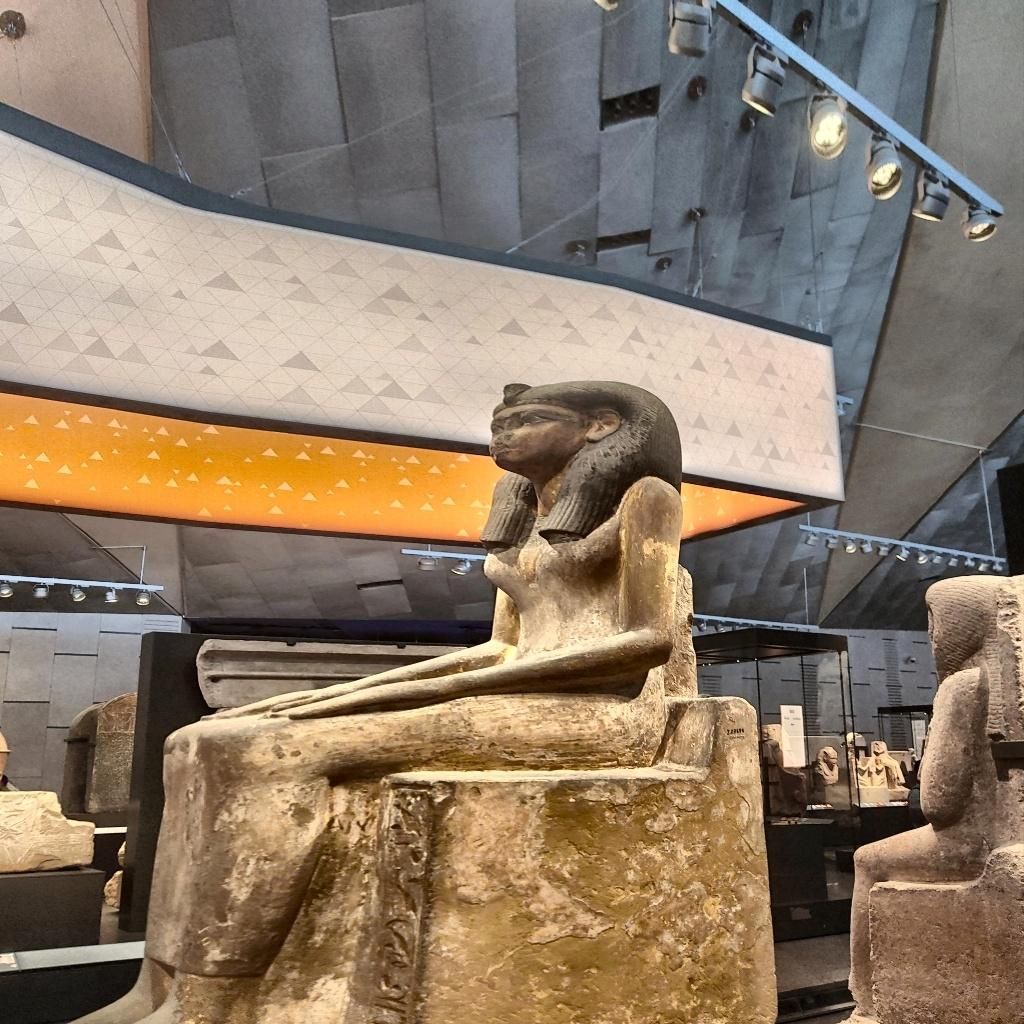Statue of Queen Metnoforet: (150, 366, 692, 1016)
